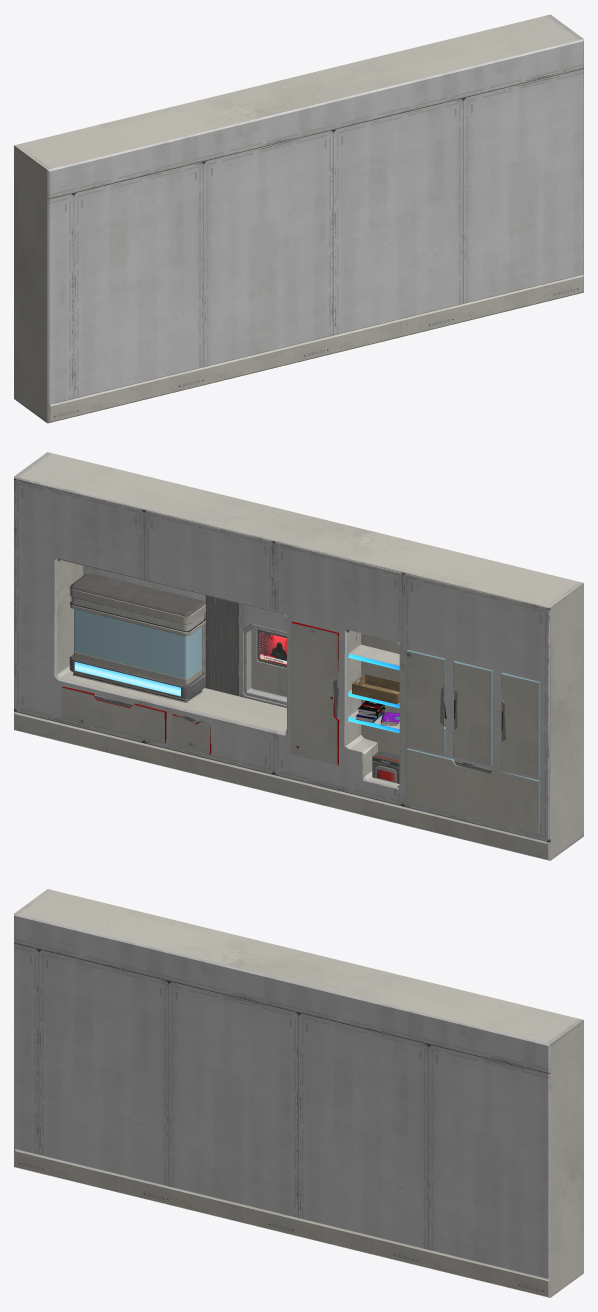
The model's file is Wall.FBX.
3 renders of one model, top to bottom at view 1: azimuth 30°, elevation 25°; view 2: azimuth 150°, elevation 25°; view 3: azimuth 330°, elevation 25°, orthographic.
Visible parts, largest first — view 1: Wall; view 2: Wall; view 3: Wall.
Part boxes in pixels (x1,y1,x2,y2): Wall: [14, 14, 583, 423]; Wall: [14, 452, 583, 860]; Wall: [14, 889, 583, 1297].
Bounding box in the file's own units: 620 × 73.34 × 280.
Materials: 16 (16 with a texture image).
